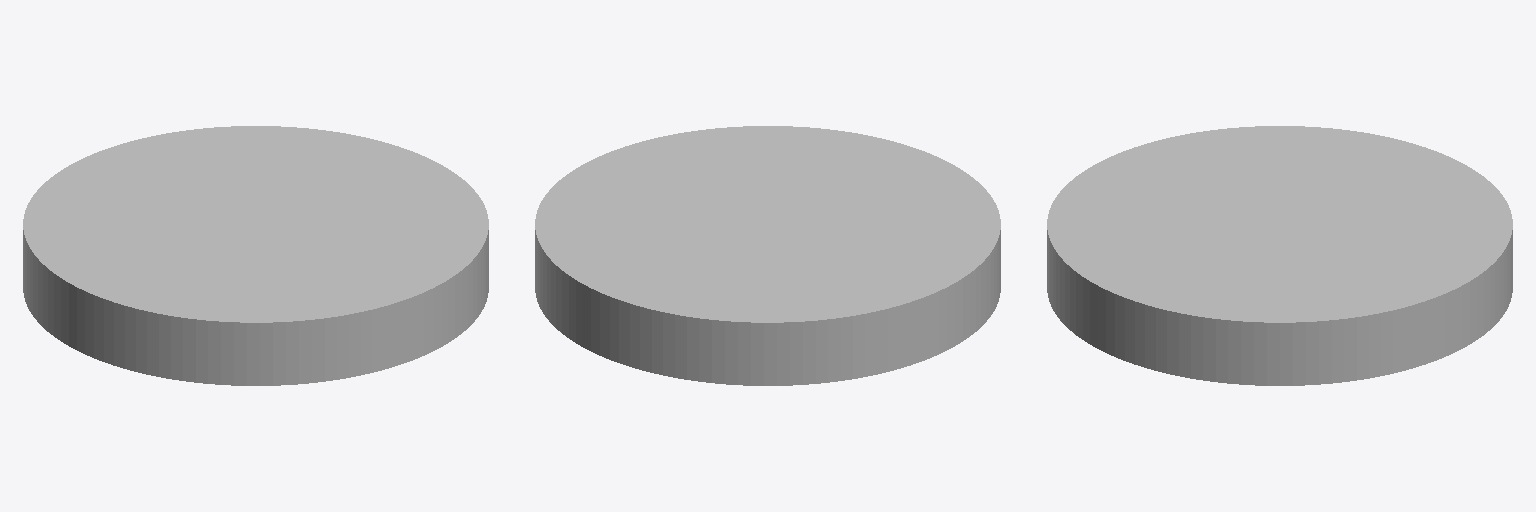
The model's file is TestBlade2-3.obj.
3 renders of one model, left to right at view 1: azimuth 30°, elevation 25°; view 2: azimuth 150°, elevation 25°; view 3: azimuth 270°, elevation 25°, orthographic.
Bounding box in the file's own units: 2 × 0.3 × 2.